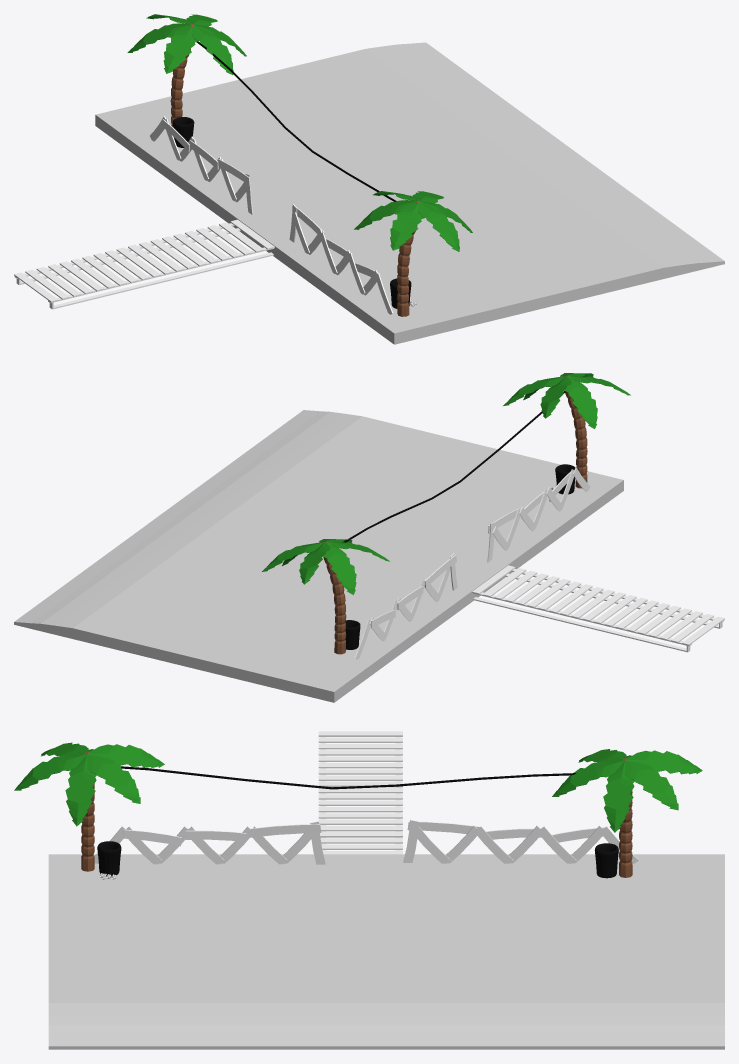
The model's file is level1.glb.
3 renders of one model, top to bottom at view 1: azimuth 30°, elevation 25°; view 2: azimuth 150°, elevation 25°; view 3: azimuth 270°, elevation 25°, orthographic. The views are drawn at different scales.
Parts seen in each view (by area): view 1: Praia, Passarela, Folhas2, Folhas, Cerca, cerca2, BasePassarela, BaseCoqueiro2, BaseCoqueiro, Bézier - Curva; view 2: Praia, Passarela, Folhas2, Folhas, Cerca, cerca2, BasePassarela, BaseCoqueiro, BaseCoqueiro2, Bézier - Curva; view 3: Praia, Passarela, Folhas2, Folhas, cerca2, Cerca, Bézier - Curva, BaseCoqueiro, BaseCoqueiro2, Lixeira.001, Lixeira.
Boxes of the visible parts, bbox=[...] form: Praia: bbox=[95, 42, 724, 344]; Passarela: bbox=[14, 219, 274, 303]; Folhas2: bbox=[354, 191, 472, 251]; Folhas: bbox=[127, 14, 246, 74]; Cerca: bbox=[289, 204, 392, 314]; cerca2: bbox=[150, 116, 253, 214]; BasePassarela: bbox=[16, 228, 273, 309]; BaseCoqueiro2: bbox=[397, 200, 419, 316]; BaseCoqueiro: bbox=[170, 24, 193, 138]; Bézier - Curva: bbox=[196, 41, 396, 201]; Praia: bbox=[14, 410, 623, 702]; Passarela: bbox=[472, 565, 724, 646]; Folhas2: bbox=[503, 373, 630, 428]; Folhas: bbox=[262, 539, 389, 594]; Cerca: bbox=[487, 467, 590, 562]; cerca2: bbox=[354, 553, 457, 659]; BasePassarela: bbox=[473, 573, 722, 652]; BaseCoqueiro: bbox=[323, 542, 346, 654]; BaseCoqueiro2: bbox=[565, 376, 587, 488]; Bézier - Curva: bbox=[343, 391, 565, 542]; Praia: bbox=[48, 854, 724, 1049]; Passarela: bbox=[318, 731, 402, 854]; Folhas2: bbox=[14, 742, 164, 826]; Folhas: bbox=[552, 749, 702, 832]; cerca2: bbox=[403, 819, 638, 863]; Cerca: bbox=[94, 821, 325, 864]; Bézier - Curva: bbox=[121, 766, 576, 789]; BaseCoqueiro: bbox=[619, 758, 632, 877]; BaseCoqueiro2: bbox=[81, 752, 94, 871]; Lixeira.001: bbox=[594, 843, 618, 878]; Lixeira: bbox=[97, 841, 121, 876].
Size of the model in its own units: 13.38 by 2.82 by 13.13.
